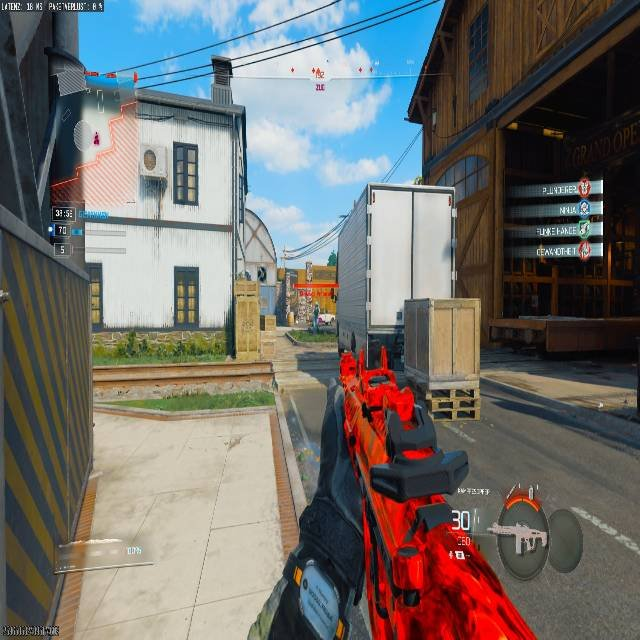player: (311, 303, 322, 331)
